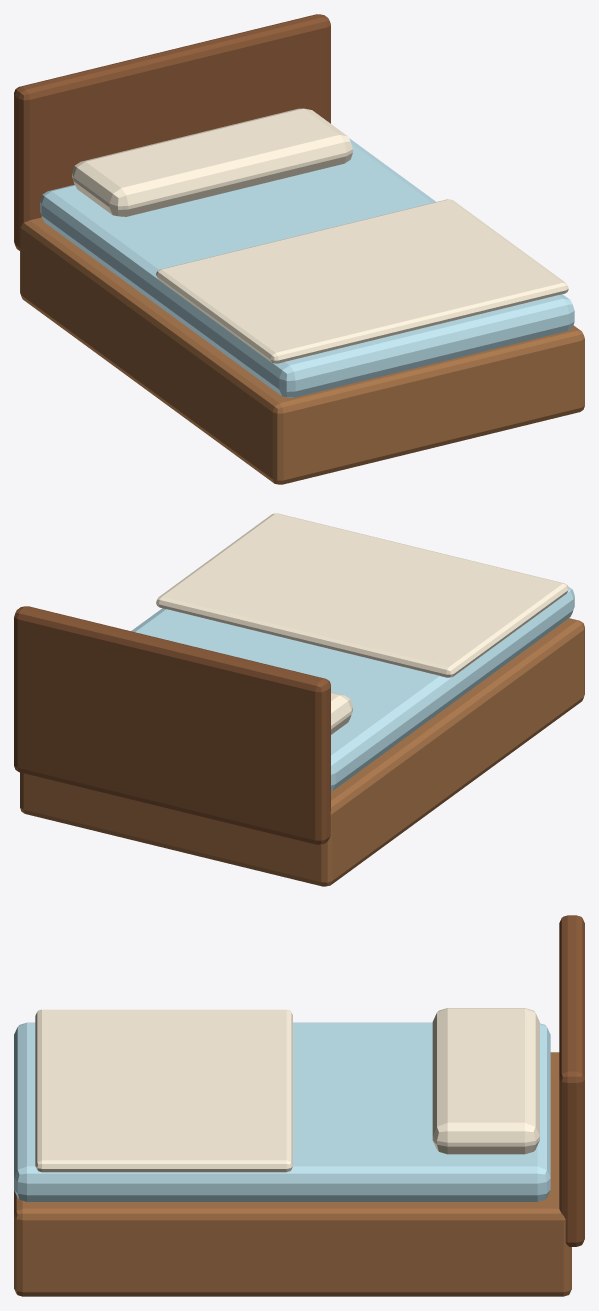
Rendered from giuong.glb.
3 views of the same model, one above another, from view 1: azimuth 30°, elevation 25°; view 2: azimuth 150°, elevation 25°; view 3: azimuth 270°, elevation 25° (orthographic). The views are drawn at different scales.
Parts seen in each view (by area): view 1: giuong-0, giuong-4, giuong-1, giuong-3, giuong-2; view 2: giuong-3, giuong-4, giuong-0, giuong-1, giuong-2; view 3: giuong-0, giuong-1, giuong-4, giuong-2, giuong-3.
Part boxes in pixels (bbox=[...]): giuong-0: bbox=[20, 217, 584, 484]; giuong-4: bbox=[156, 199, 568, 363]; giuong-1: bbox=[40, 138, 574, 397]; giuong-3: bbox=[14, 14, 330, 250]; giuong-2: bbox=[72, 108, 352, 216]; giuong-3: bbox=[14, 606, 330, 844]; giuong-4: bbox=[156, 513, 568, 677]; giuong-0: bbox=[20, 618, 584, 886]; giuong-1: bbox=[131, 586, 574, 791]; giuong-2: bbox=[331, 692, 352, 734]; giuong-0: bbox=[14, 1052, 571, 1296]; giuong-1: bbox=[14, 1022, 550, 1201]; giuong-4: bbox=[35, 1009, 292, 1172]; giuong-2: bbox=[432, 1008, 539, 1154]; giuong-3: bbox=[559, 915, 584, 1246].
Bounding box in the file's own units: 1.8 × 1.15 × 2.66.
